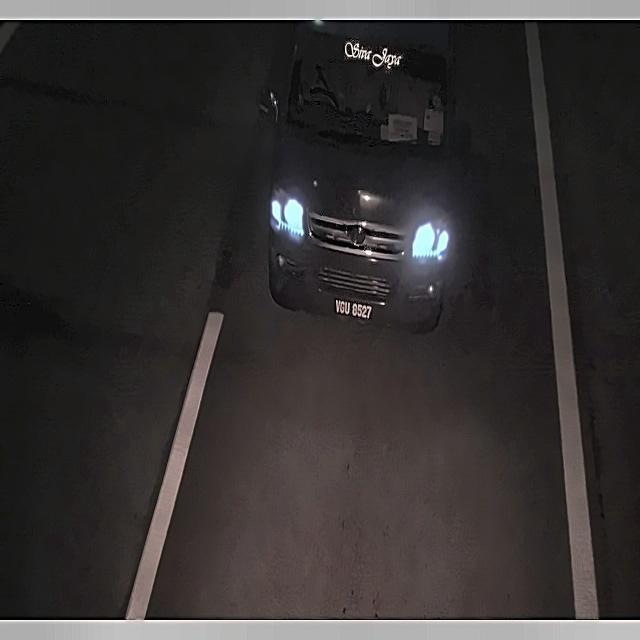car: (330, 290, 376, 328)
